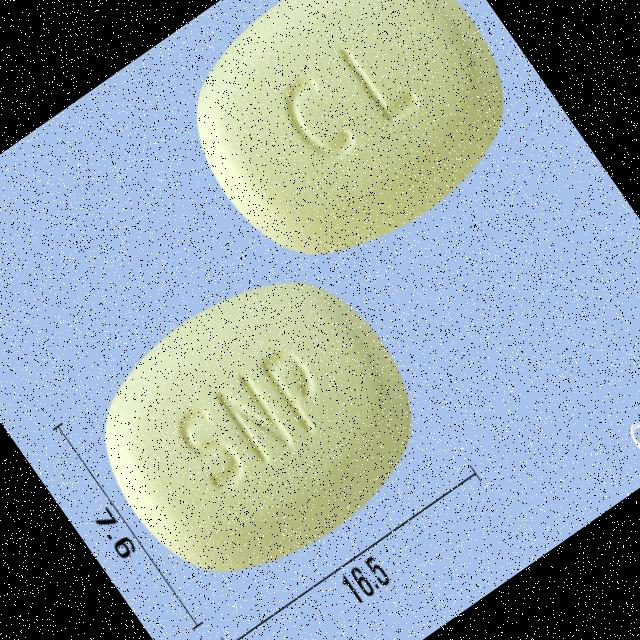A Progen Clarithromycin Tab-500mg: (60, 234, 459, 620), (148, 0, 550, 304)
